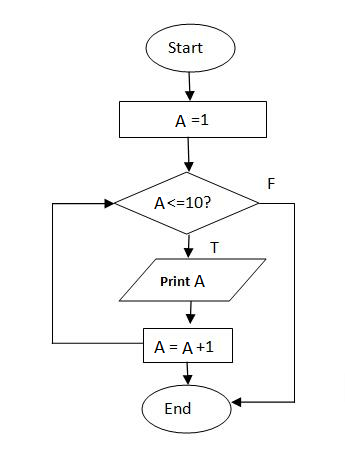arrow: (47, 196, 148, 348), (230, 200, 298, 409), (182, 137, 195, 174), (183, 299, 198, 328), (183, 71, 196, 102), (182, 234, 197, 256), (180, 362, 194, 384)
data: (115, 255, 267, 305)
decision: (112, 169, 261, 236)
process: (117, 99, 269, 141), (140, 326, 236, 366)
terminator: (143, 21, 238, 74), (140, 383, 232, 437)
text: (151, 339, 217, 355), (151, 194, 212, 210), (158, 273, 206, 290), (167, 39, 206, 55), (172, 112, 210, 128), (162, 400, 194, 418), (209, 239, 221, 254), (265, 176, 276, 191)
